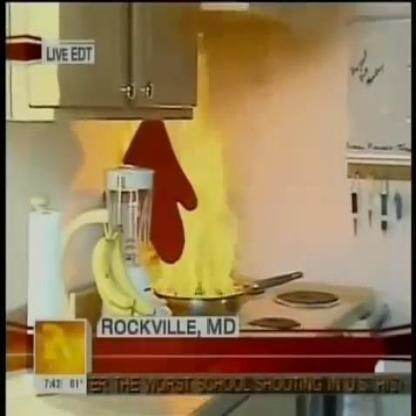fire: (118, 43, 248, 297)
